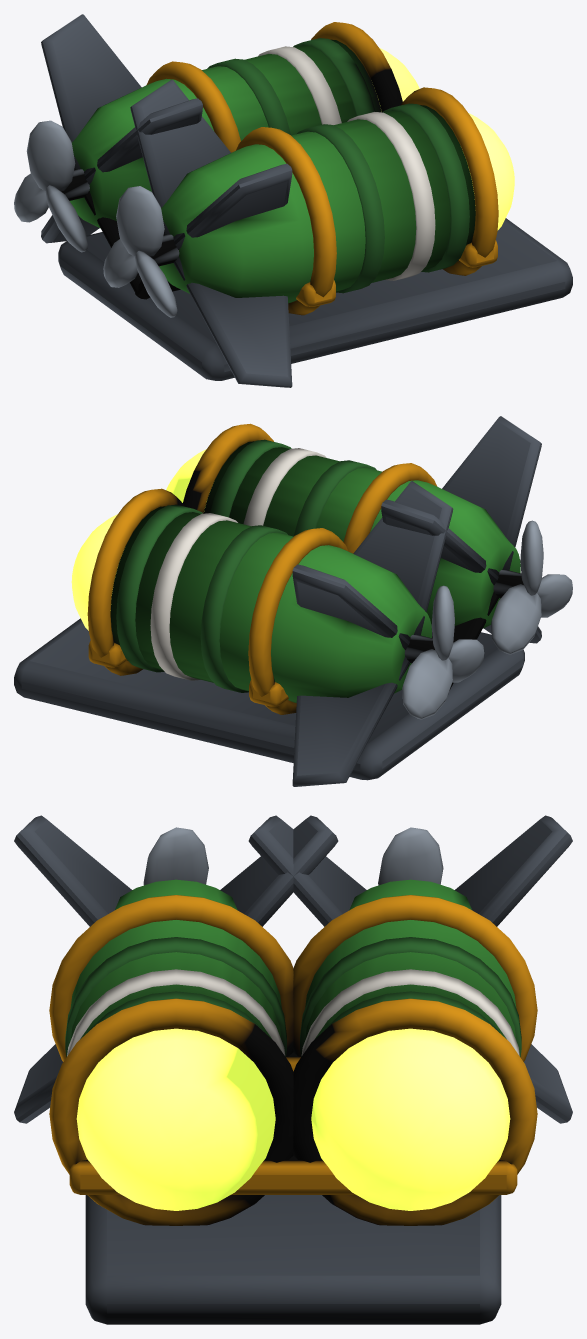
File: part_torpedo.glb
3 renders of one model, top to bottom at view 1: azimuth 30°, elevation 25°; view 2: azimuth 150°, elevation 25°; view 3: azimuth 270°, elevation 25°, orthographic. The views are drawn at different scales.
Parts seen in each view (by area): view 1: torpedo_rack; view 2: torpedo_rack; view 3: torpedo_rack.
Part boxes in pixels (x1,y1,x2,y2): torpedo_rack: (14,14,572,387); torpedo_rack: (14,416,572,786); torpedo_rack: (14,815,572,1324).
Size of the model in its own units: 1.19 by 0.6243 by 1.05.
